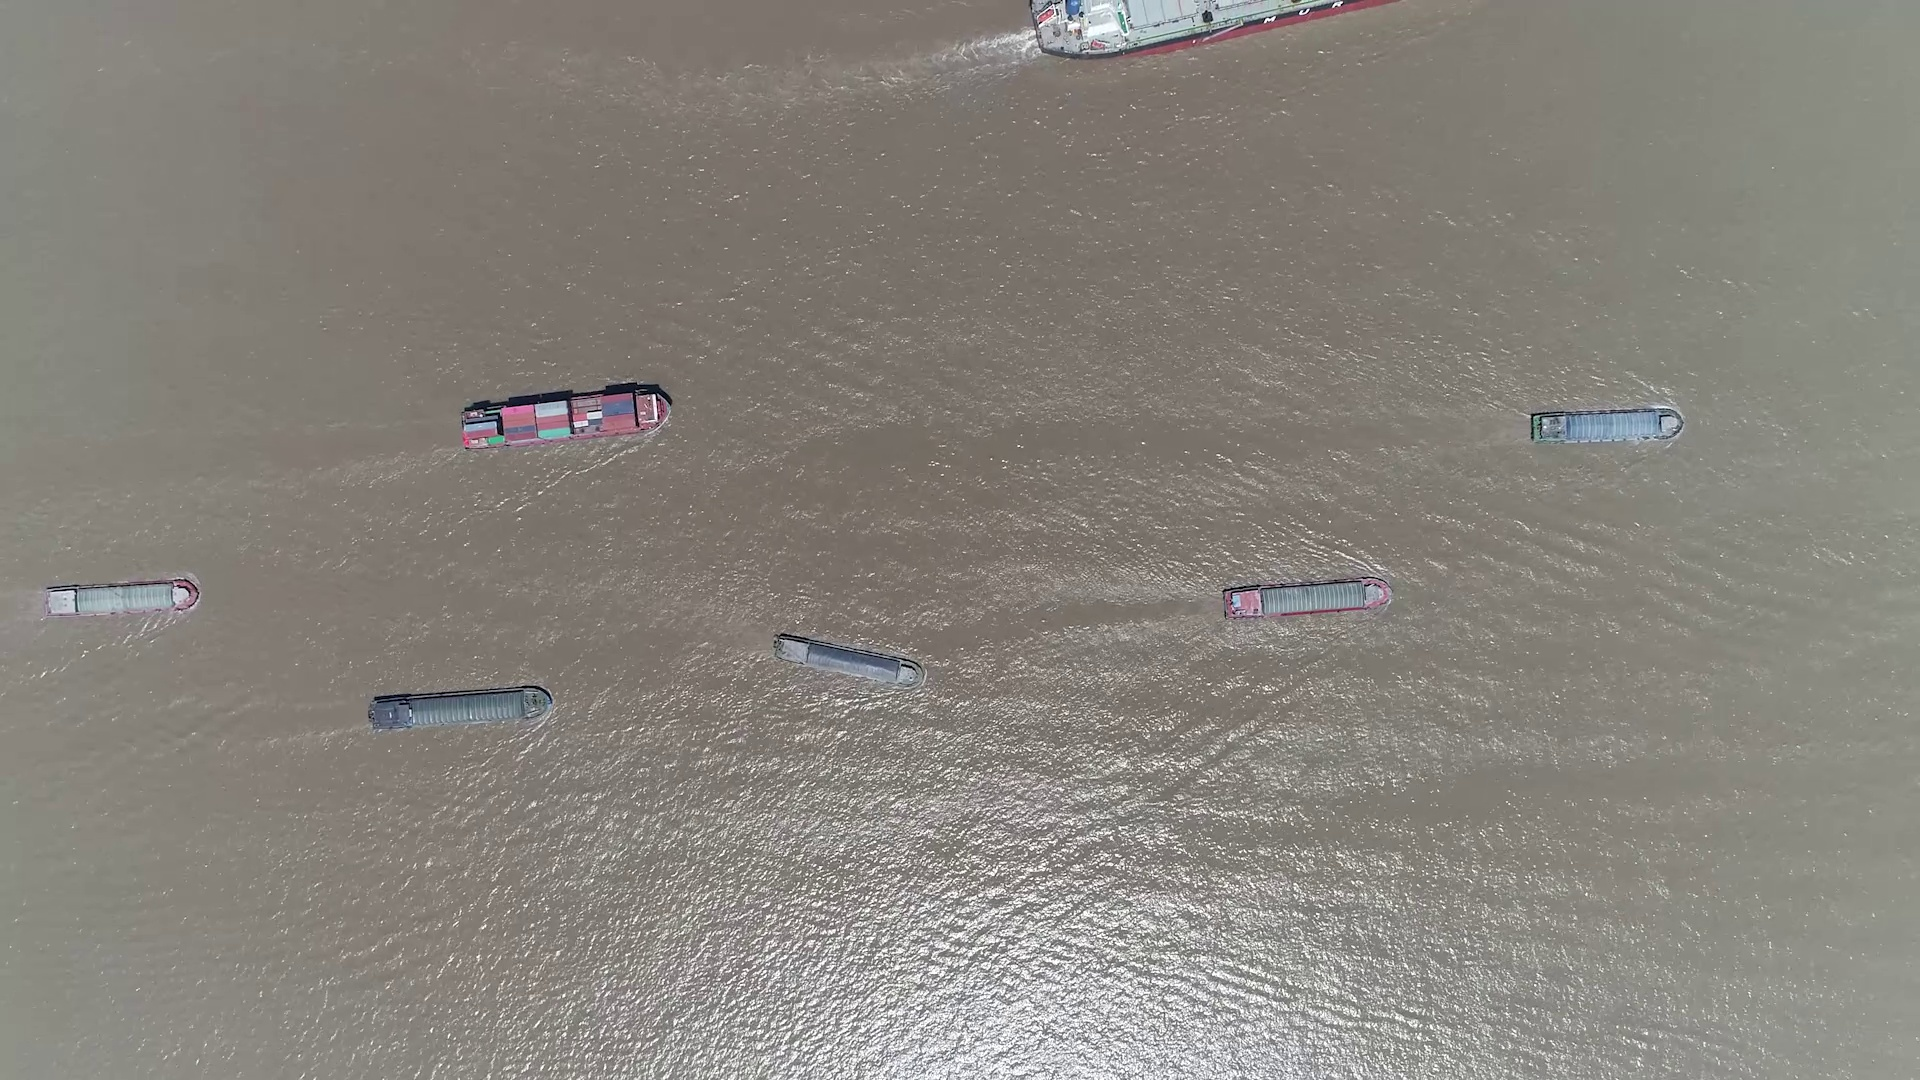ship: (1029, 3, 1396, 57), (460, 385, 673, 448), (369, 686, 553, 731), (771, 633, 920, 686), (1224, 576, 1393, 621), (44, 580, 198, 617), (1528, 406, 1683, 443)
